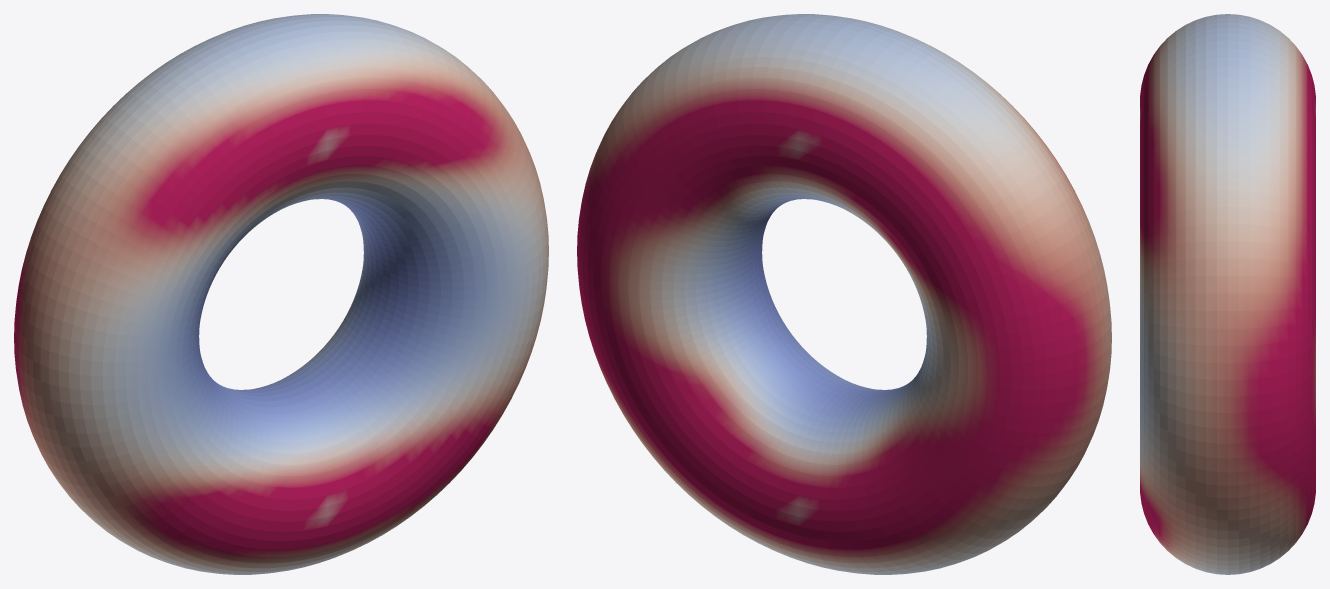
3 views of the same model, side by side, from view 1: azimuth 30°, elevation 25°; view 2: azimuth 150°, elevation 25°; view 3: azimuth 270°, elevation 25° (orthographic). The views are drawn at different scales.
Visible parts, largest first — view 1: world; view 2: world; view 3: world.
Boxes of the visible parts, left/top/right/bottom form: world: left=14, top=14, right=548, bottom=574; world: left=577, top=14, right=1111, bottom=574; world: left=1140, top=14, right=1315, bottom=574.
Bounding box in the file's own units: 23.33 × 23.33 × 7.32.
